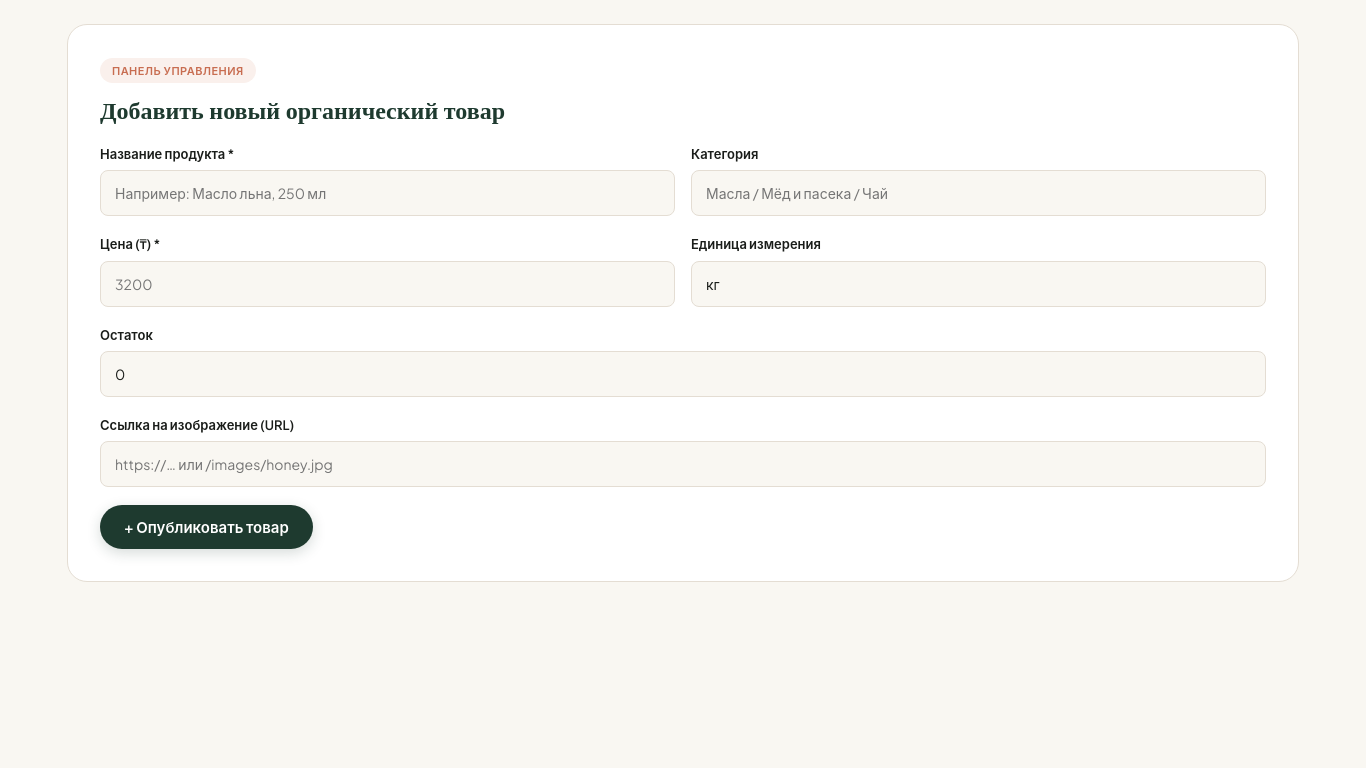
Test: серверная валидация отрицательной цены показывает details
In the field labelled "Название продукта *": (388, 193) [100,170,675,216], type "Тестовый мёд"
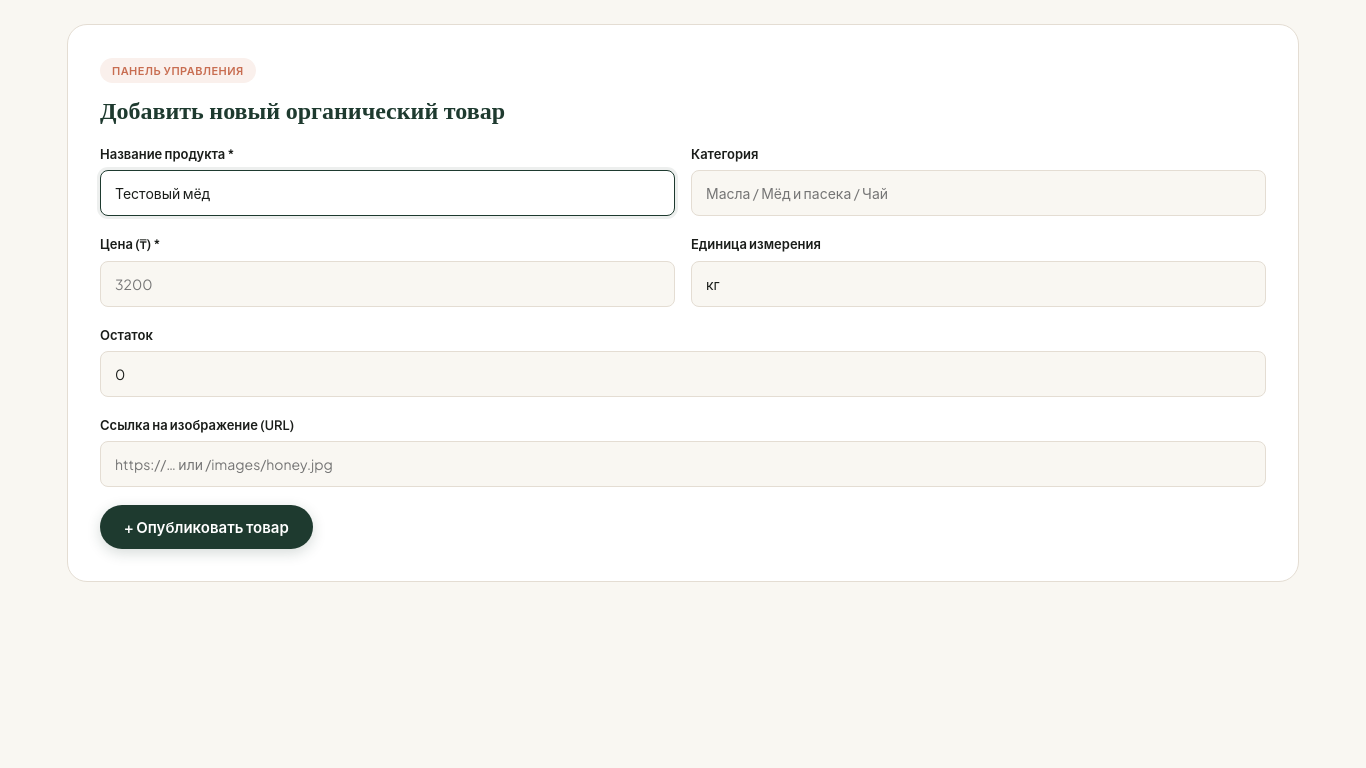
In the number field labelled "Цена (₸) *": (388, 284) [100,260,675,306], type "-500"
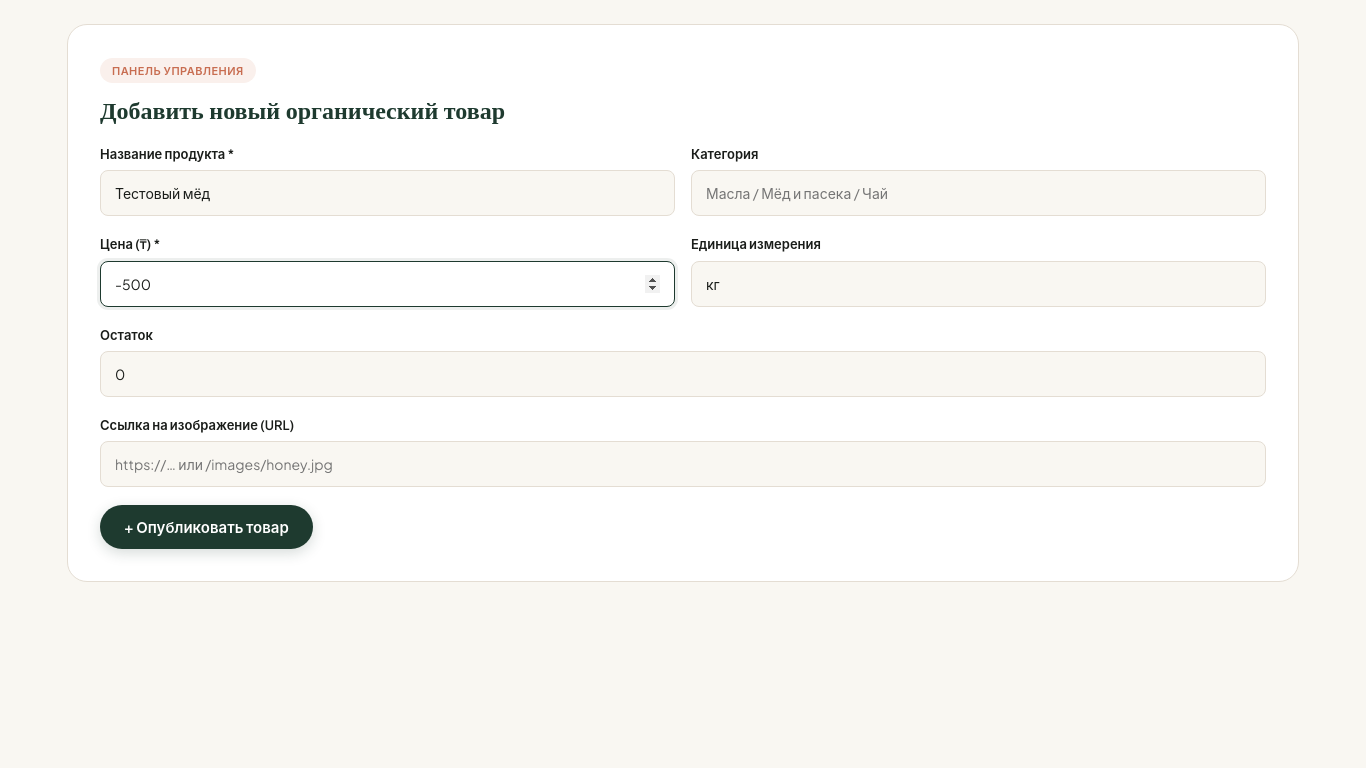
Обходим HTML-валидацию намеренно, чтобы отдельно проверить ответ сервера.
Submit the form named "опубликовать товар", box [100,144,1266,549]
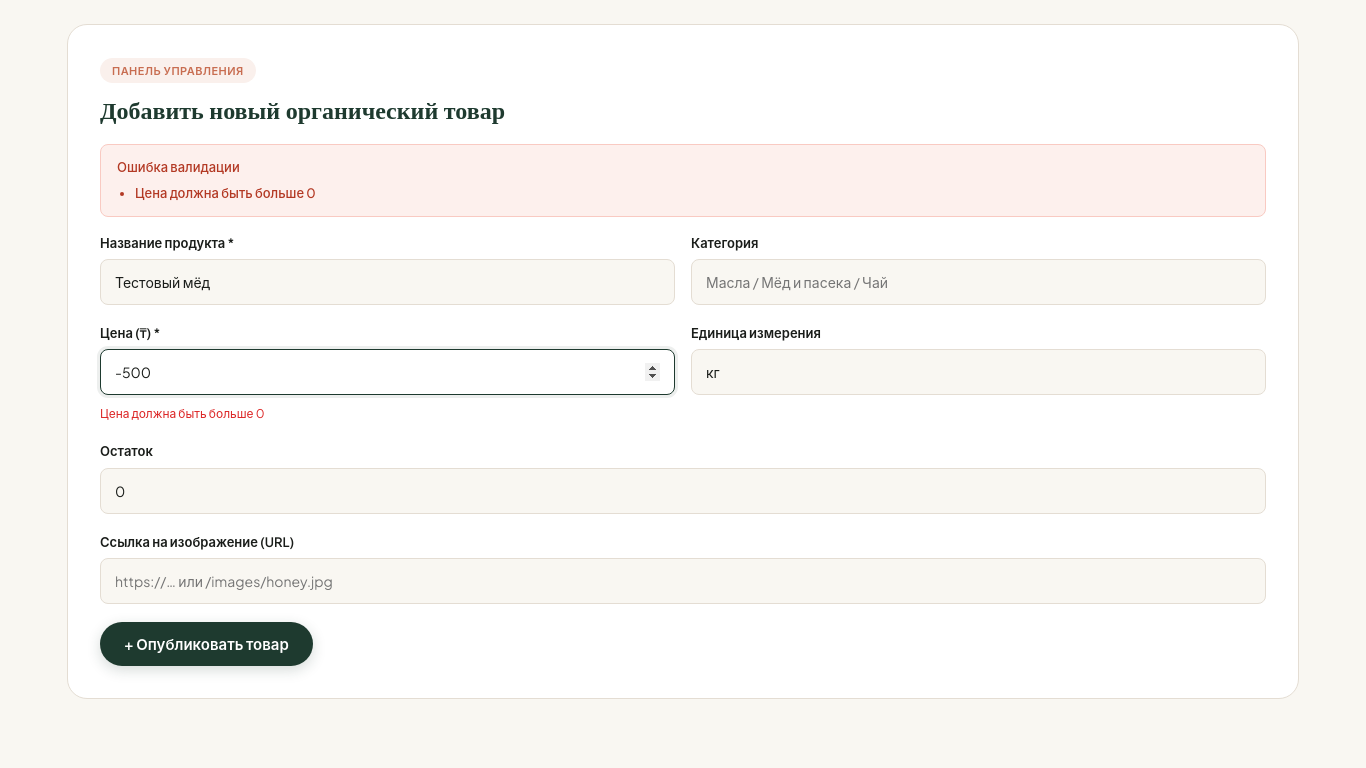
Check: the list item "Цена должна быть больше 0" is shown, box [135,185,316,201]
